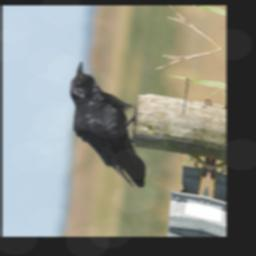Crow: (58, 59, 161, 192)
